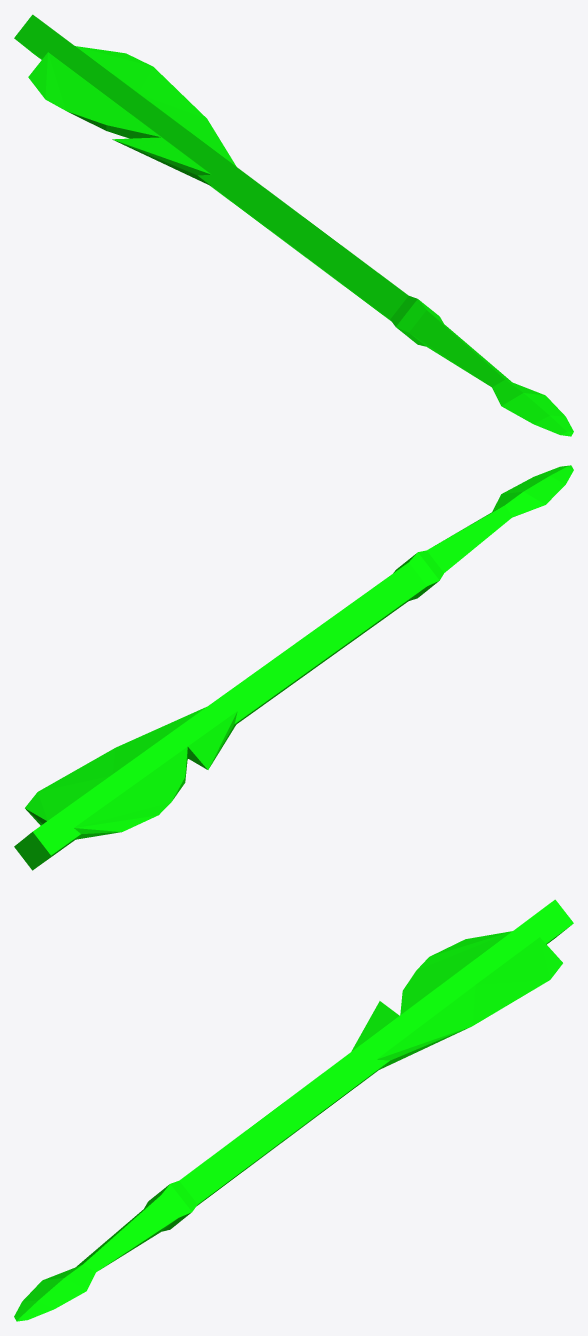
The model's file is SM_Bolt_E_Fantasy.fbx.
3 views of the same model, one above another, from view 1: azimuth 30°, elevation 25°; view 2: azimuth 150°, elevation 25°; view 3: azimuth 330°, elevation 25° (orthographic).
Parts seen in each view (by area): view 1: bolt-e-fantasy; view 2: bolt-e-fantasy; view 3: bolt-e-fantasy.
Boxes of the visible parts, x1,y1,x2,y2 form: bolt-e-fantasy: (14, 14, 573, 436); bolt-e-fantasy: (14, 465, 573, 870); bolt-e-fantasy: (14, 899, 573, 1321).
Size of the model in its own units: 0.0369 by 0.0149 by 0.3002.
